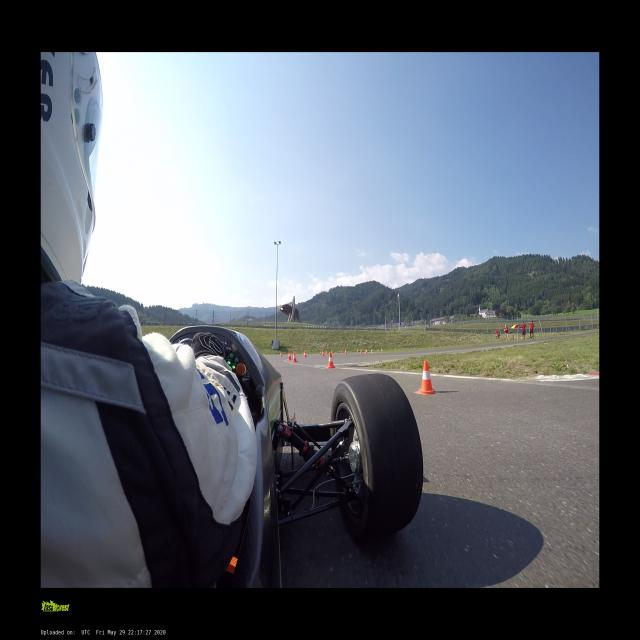orange_cone: (417, 360, 436, 394), (327, 353, 335, 368), (292, 352, 298, 362), (288, 351, 291, 360), (322, 350, 324, 356), (304, 351, 306, 357), (280, 351, 282, 357), (319, 350, 321, 355), (360, 350, 362, 353), (320, 350, 321, 355), (345, 350, 346, 354), (366, 348, 367, 352), (326, 350, 327, 354), (341, 350, 342, 353)
